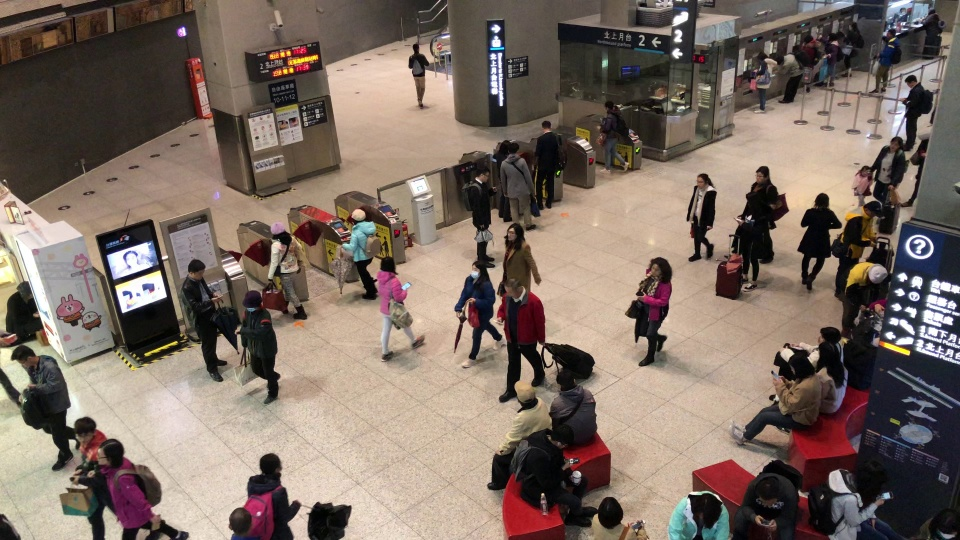person_head: (857, 460, 887, 495), (597, 496, 624, 530), (95, 439, 124, 465), (787, 353, 816, 379), (73, 415, 97, 445), (10, 344, 37, 369), (229, 507, 252, 536), (756, 478, 779, 506), (550, 424, 574, 449), (817, 342, 840, 367), (938, 511, 958, 539), (515, 381, 536, 406), (259, 452, 282, 474), (649, 256, 671, 278), (696, 497, 716, 521), (186, 258, 206, 281), (242, 289, 262, 311), (503, 276, 523, 298), (554, 369, 577, 388), (817, 325, 840, 344), (505, 222, 525, 240), (869, 265, 887, 285), (16, 280, 33, 298), (864, 200, 881, 218), (471, 260, 486, 279), (269, 222, 285, 239), (380, 255, 396, 272), (695, 172, 712, 188), (755, 165, 770, 183), (350, 208, 366, 224), (475, 165, 490, 182), (814, 192, 829, 208), (745, 191, 759, 208), (889, 136, 903, 152), (903, 73, 917, 88), (507, 141, 520, 154), (499, 140, 510, 155), (540, 119, 552, 132), (885, 28, 896, 39), (603, 100, 614, 110), (758, 51, 769, 61), (860, 165, 869, 176), (848, 21, 858, 30), (803, 35, 814, 43), (411, 43, 420, 52), (827, 32, 836, 41), (776, 55, 784, 64), (927, 6, 935, 15)
person_vbox: (95, 438, 190, 540), (509, 424, 598, 528), (9, 344, 81, 471), (724, 353, 822, 445), (807, 459, 908, 540), (486, 380, 552, 489), (772, 342, 849, 435), (497, 276, 546, 404), (179, 258, 228, 381), (731, 459, 803, 540), (453, 259, 505, 368), (769, 325, 844, 400), (234, 290, 281, 406), (73, 415, 116, 540), (376, 256, 425, 364), (831, 201, 882, 303), (247, 452, 301, 540), (796, 192, 842, 291), (634, 256, 672, 370), (267, 221, 309, 320), (461, 165, 499, 268), (339, 208, 381, 300), (548, 369, 598, 446), (839, 261, 888, 338), (499, 141, 537, 232), (496, 222, 542, 297), (745, 165, 779, 265), (667, 490, 729, 540), (533, 120, 567, 209), (684, 172, 717, 263), (592, 496, 650, 540), (596, 100, 630, 175), (902, 74, 934, 152), (872, 136, 907, 207), (741, 192, 765, 293), (867, 28, 903, 95), (4, 280, 40, 345), (774, 49, 810, 105), (750, 50, 780, 114), (492, 139, 513, 223), (799, 34, 825, 95), (913, 507, 959, 540), (408, 43, 430, 110), (816, 32, 843, 86), (840, 21, 864, 78), (851, 164, 872, 207), (919, 6, 944, 37)
